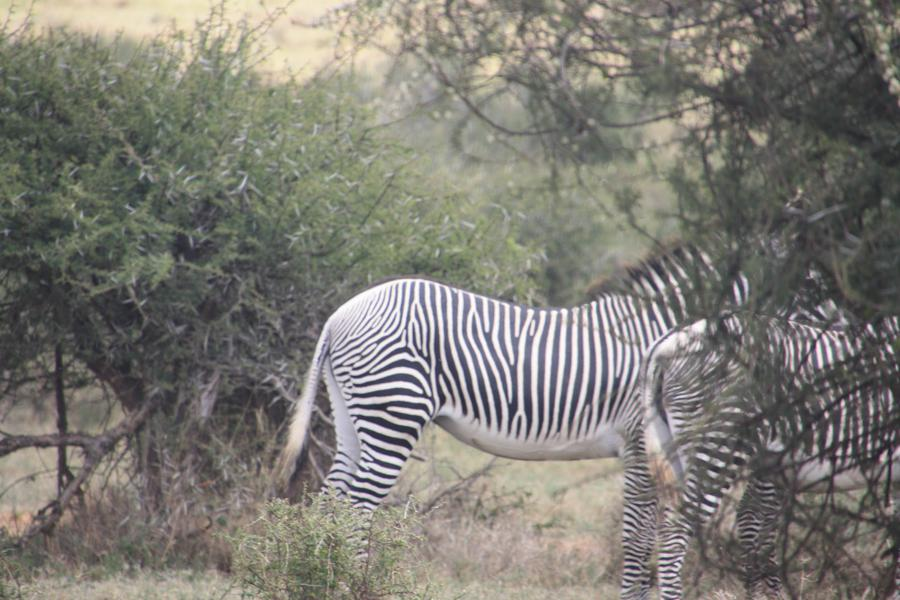zebra_grevys: (312, 263, 618, 454)
